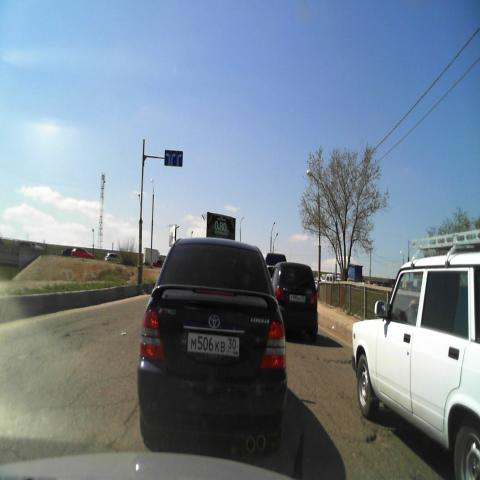5_15_1: (164, 149, 183, 167)
